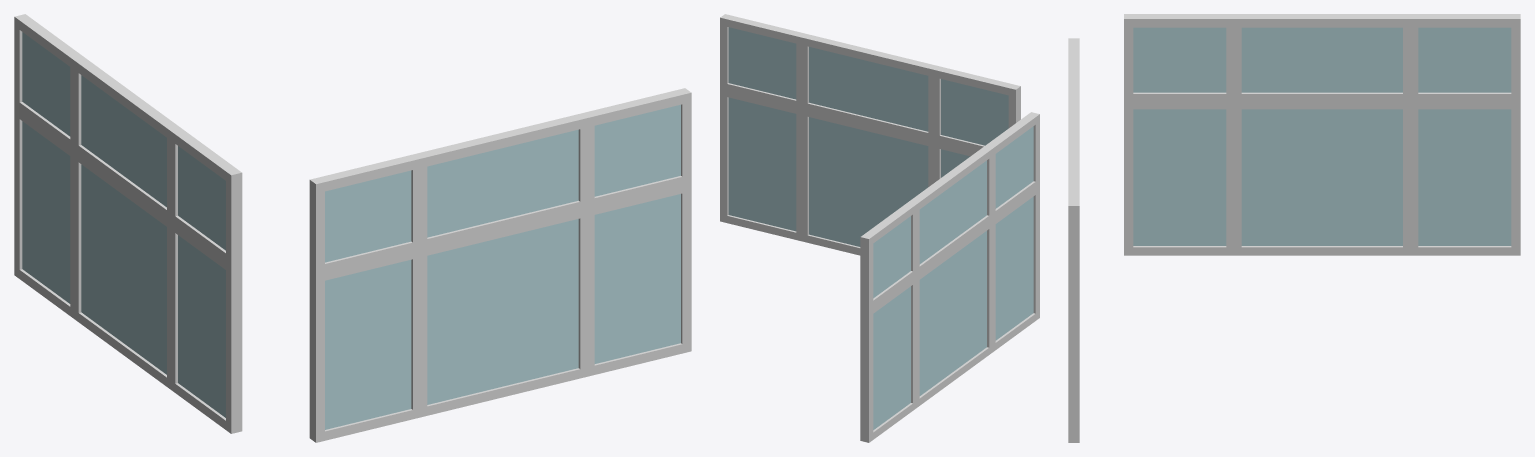
The model's file is PoprawioneSzybyRecepcja.fbx.
3 renders of one model, left to right at view 1: azimuth 30°, elevation 25°; view 2: azimuth 150°, elevation 25°; view 3: azimuth 270°, elevation 25°, orthographic. The views are drawn at different scales.
Visible parts, largest first — view 1: RecepWindow, RecepWindow.002; view 2: RecepWindow, RecepWindow.002; view 3: RecepWindow.002, RecepWindow.
Boxes of the visible parts, x1,y1,x2,y2 form: RecepWindow: [309, 88, 691, 442]; RecepWindow.002: [14, 14, 242, 433]; RecepWindow: [720, 14, 1020, 255]; RecepWindow.002: [860, 112, 1039, 442]; RecepWindow.002: [1124, 14, 1520, 255]; RecepWindow: [1068, 38, 1079, 442].
Size of the model in its own units: 192 by 110 by 191.
